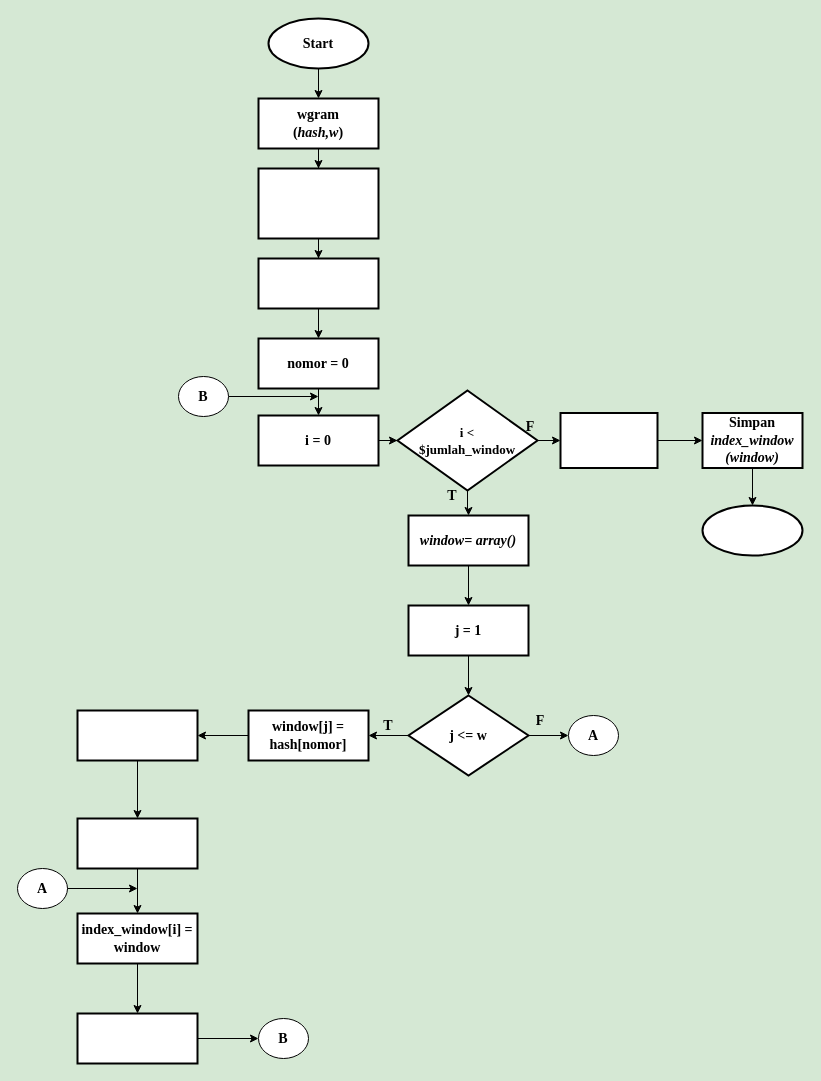
This 821x1081 diagram has some shape labels left out. The shapes that lost their labels are listed below. From the top down, each one's box as (x1, y1, x2, y2) in pixels, then its label:
(257, 167, 379, 239): jumlah_window = floor(count(hash) / w)
(257, 257, 379, 309): index_window = array()
(559, 412, 658, 468): return index_window
(701, 504, 803, 556): End
(76, 709, 198, 761): nomor++
(76, 817, 198, 869): j++
(76, 1012, 198, 1064): i++
